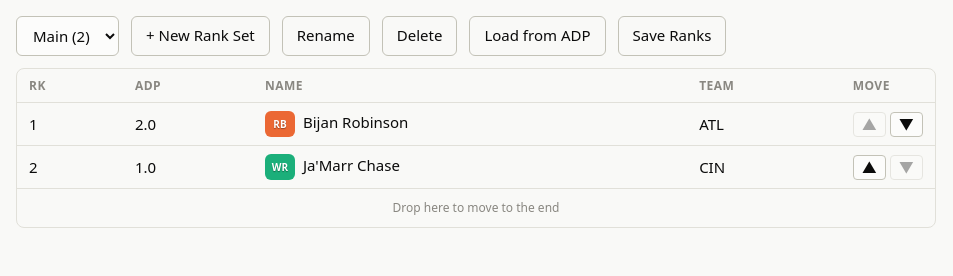
it: RankingsPage › Load from ADP replaces the working list
This screenshot has width=953, height=276.
Expected: the text "Bijan Robinson" is shown, [303,112,408,132]
Click the button "Load from ADP". click: (538, 36)
box: [469,16,606,56]
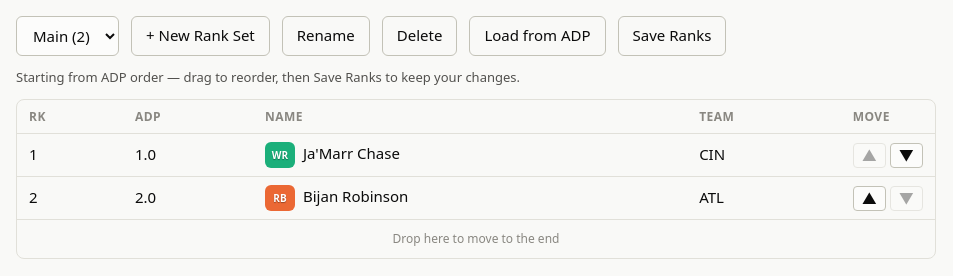
Expected: the text "Ja'Marr Chase" is shown, [303,143,400,163]
Expected: the text "Starting from ADP order" is shown, [16,68,520,86]
